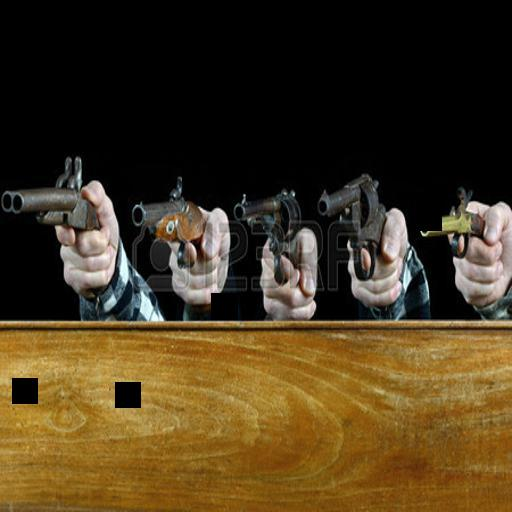Handgun: (314, 169, 394, 288), (232, 179, 301, 287)
